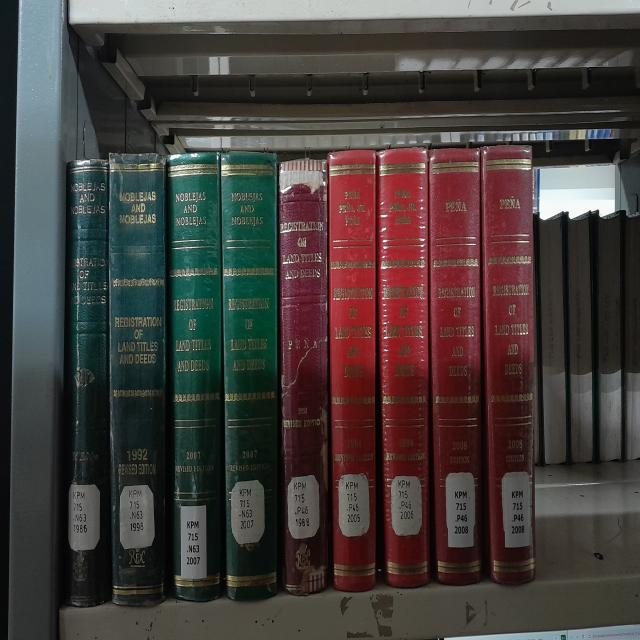book: (220, 152, 278, 600), (109, 155, 165, 606), (480, 145, 536, 584), (168, 153, 221, 601), (376, 149, 430, 587), (429, 149, 481, 584), (327, 150, 376, 591), (279, 161, 328, 594), (66, 160, 110, 606)
